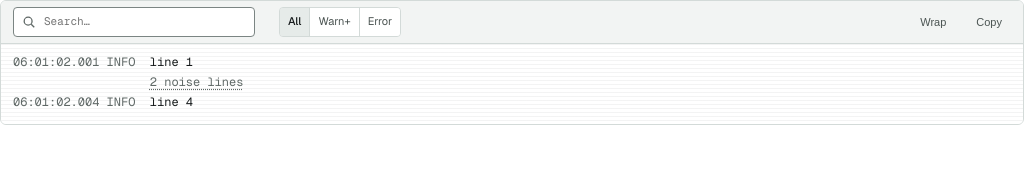
Test case: LogViewer › folds consecutive noise lines behind a toggle and expands them
Expected: the text "n2" is not shown
Click the button "2 noise lines": (197, 82) [150,72,243,92]
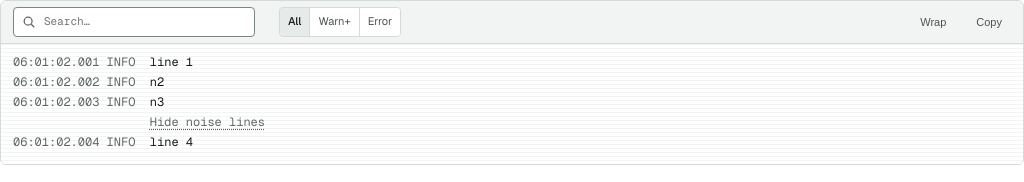
Expected: the text "n2" is shown, [150,74,164,90]
Expected: the text "n3" is shown, [150,94,164,110]
Click the button "Hide noise lines": (207, 122) [150,112,265,132]
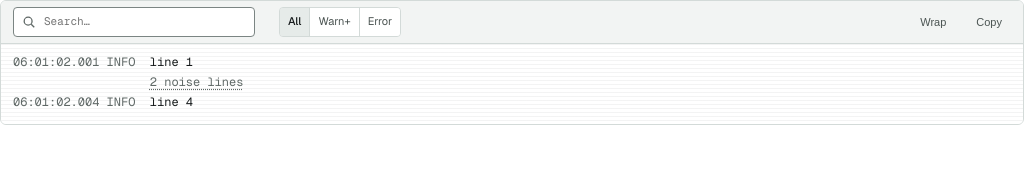
Expected: the text "n2" is gone
